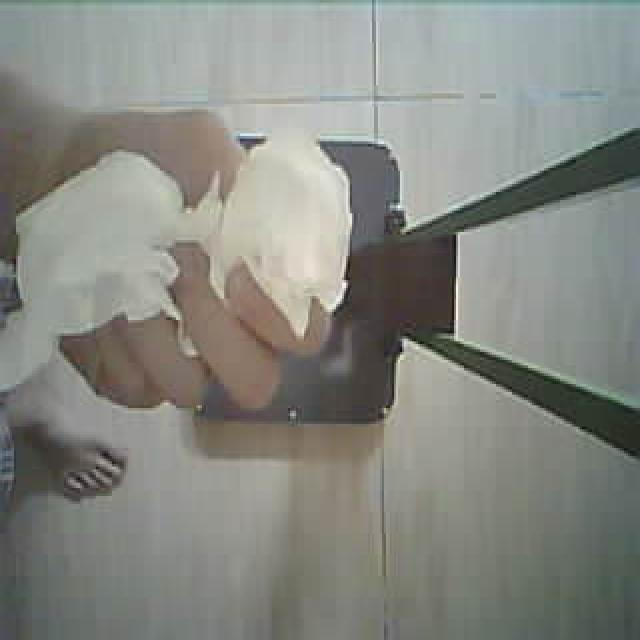Paper: (17, 137, 338, 377)
